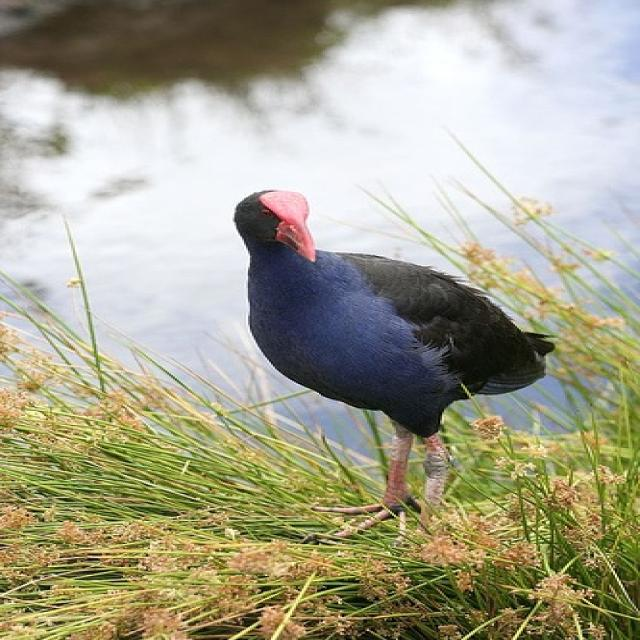bird: (231, 188, 557, 548)
